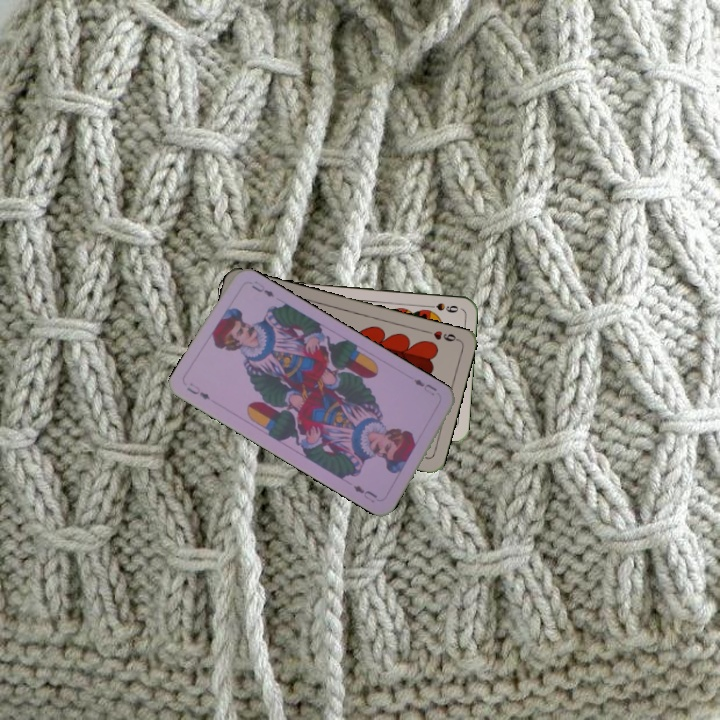EU: (183, 379, 212, 403), (410, 375, 440, 398)
H9: (421, 326, 461, 344)
S9: (421, 299, 461, 315)
